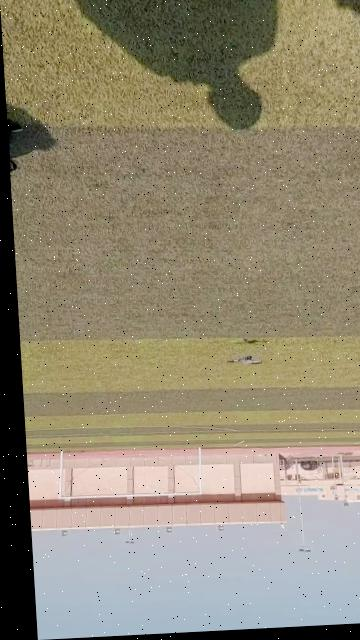drone: (216, 351, 260, 375)
